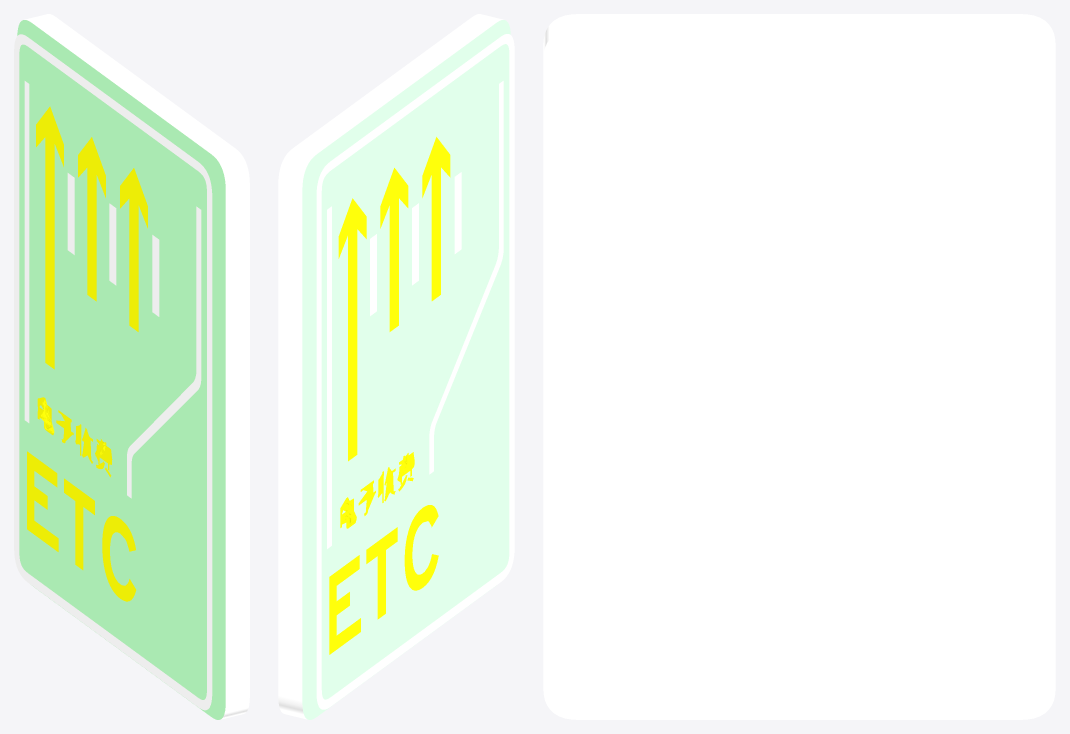
File: ETC_Lane_InnerSide.glb
3 views of the same model, side by side, from view 1: azimuth 30°, elevation 25°; view 2: azimuth 150°, elevation 25°; view 3: azimuth 270°, elevation 25° (orthographic). The views are drawn at different scales.
Visible parts, largest first — view 1: ETC_Lane_InnerSide; view 2: ETC_Lane_InnerSide; view 3: ETC_Lane_InnerSide.
Part boxes in pixels (<box>): ETC_Lane_InnerSide: <box>14,14,249,719</box>; ETC_Lane_InnerSide: <box>278,14,514,719</box>; ETC_Lane_InnerSide: <box>543,14,1055,719</box>.
Bounding box in the file's own units: 0.0408 × 0.67 × 0.45.
